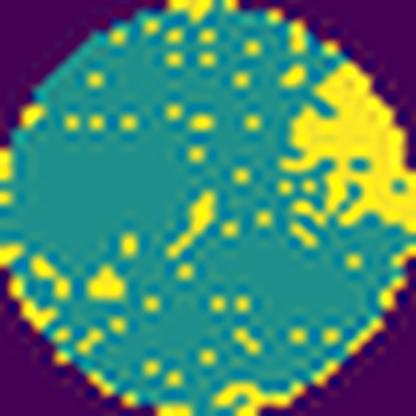Edge-Loc: (279, 55, 416, 235)
